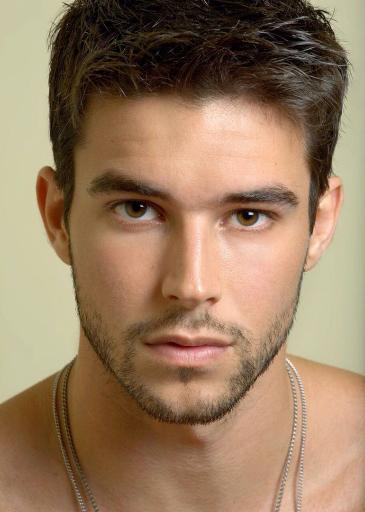left_eye: (221, 205, 282, 235)
left_lip_corner: (221, 334, 239, 360)
right_eye: (105, 197, 169, 231)
right_lip_corner: (138, 332, 157, 359)
